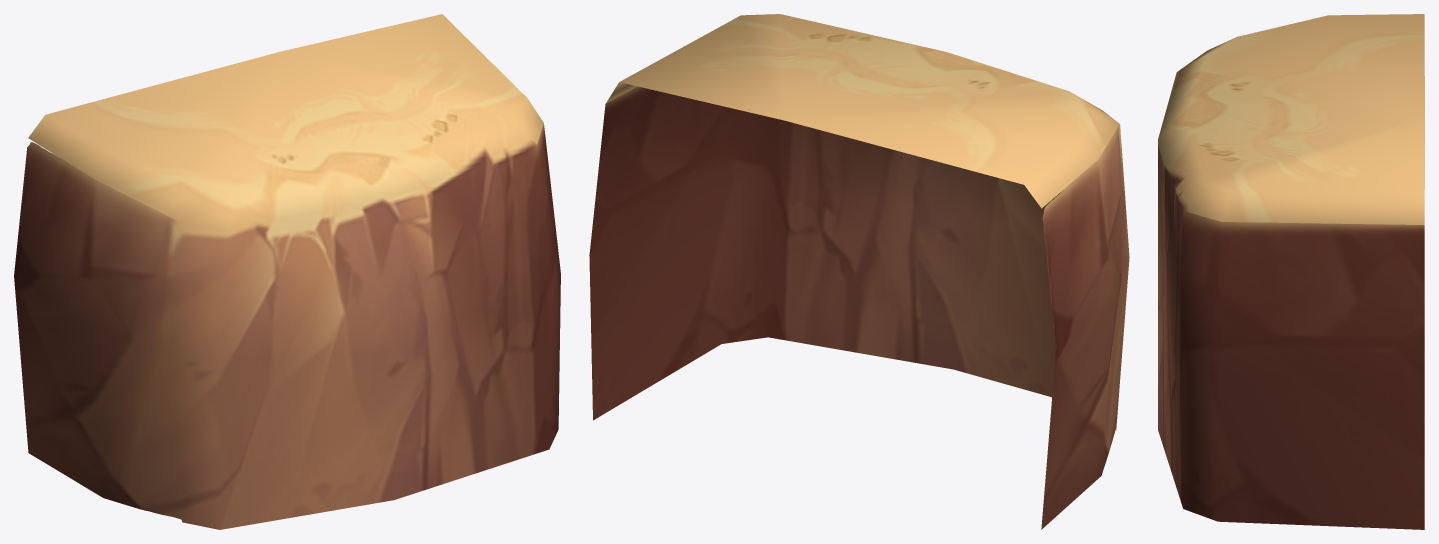
The model's file is Chapter1Scene1Model28.FBX.
3 views of the same model, side by side, from view 1: azimuth 30°, elevation 25°; view 2: azimuth 150°, elevation 25°; view 3: azimuth 270°, elevation 25° (orthographic). The views are drawn at different scales.
Parts seen in each view (by area): view 1: Chapter1Scene1Model28; view 2: Chapter1Scene1Model28; view 3: Chapter1Scene1Model28.
Boxes of the visible parts, x1,y1,x2,y2 form: Chapter1Scene1Model28: (14, 14, 560, 529); Chapter1Scene1Model28: (589, 14, 1129, 529); Chapter1Scene1Model28: (1158, 14, 1424, 529).
Size of the model in its own units: 301 by 159 by 213.
